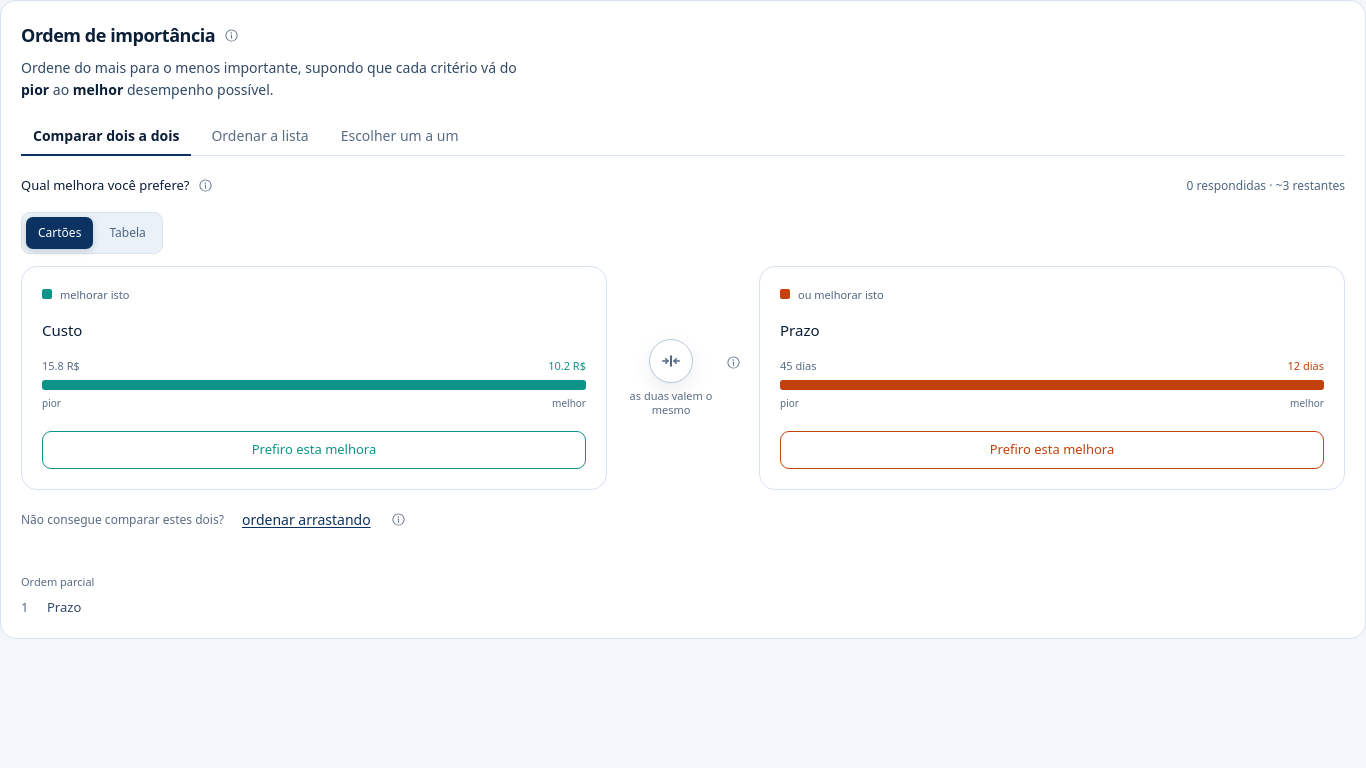
Scenario: a faixa nos tres modos de ordenacao › o criterio ja escolhido leva a faixa dele embora da lista de restantes
This screenshot has width=1366, height=768.
Click the button "Escolher um a um".
click(400, 137)  # box [329,118,470,156]
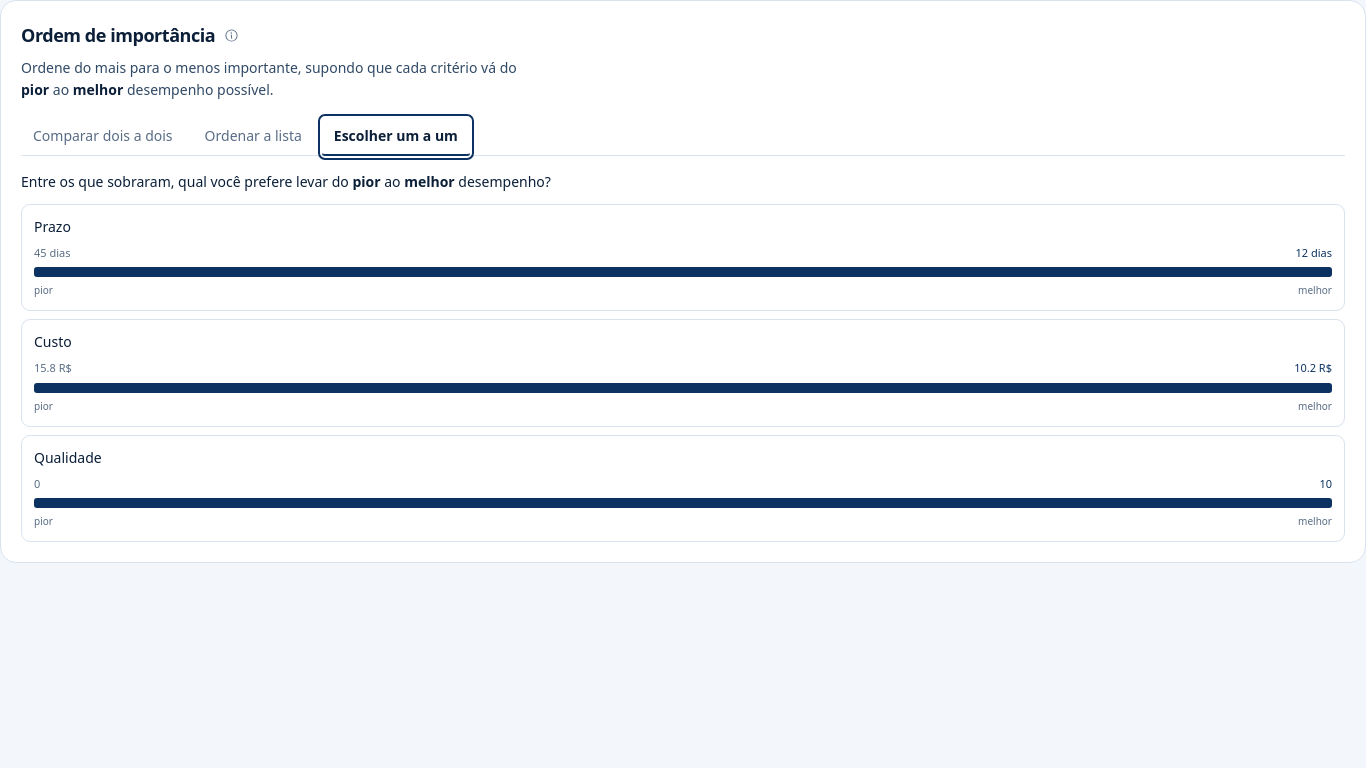
Click the button "Prazo 45 dias 12 dias pior melhor".
click(52, 226)  # box [21,204,1345,311]
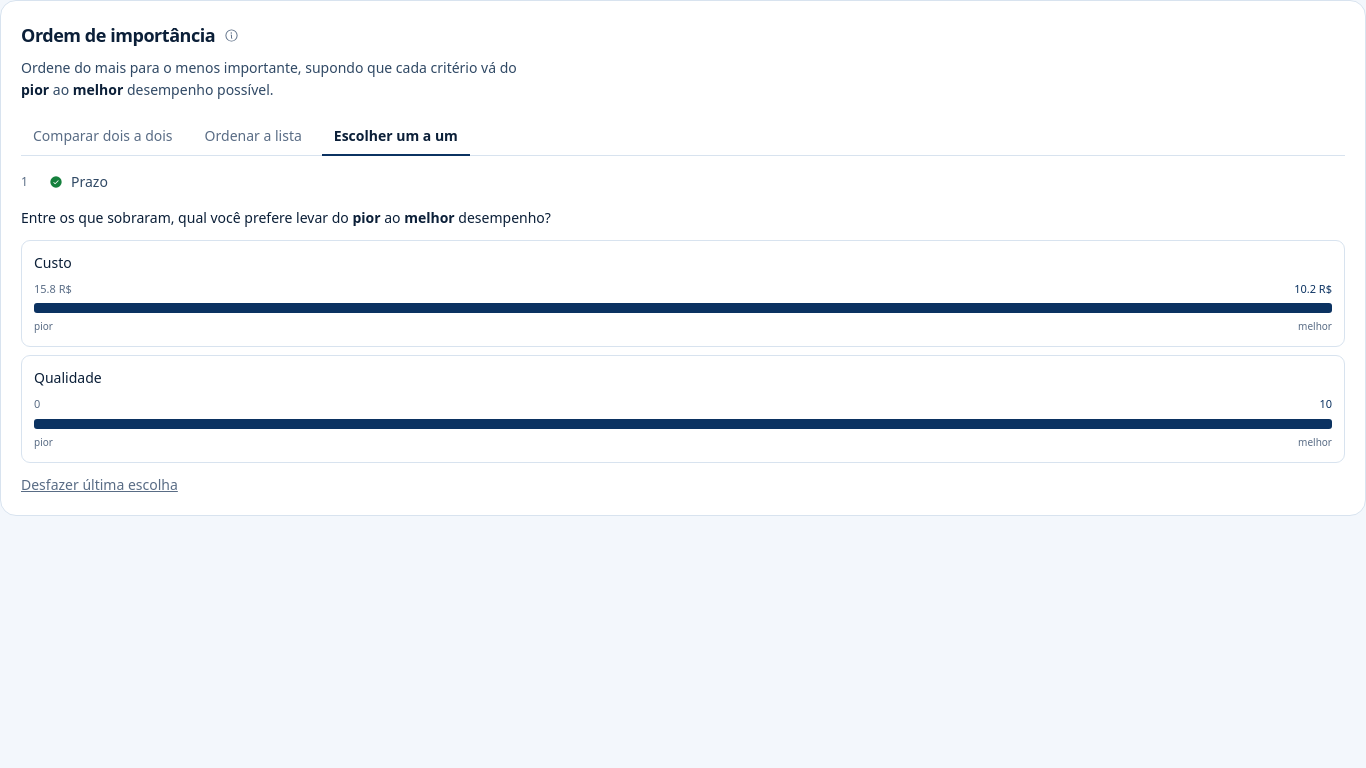
Expected: the number of pictures is 2, [34,281,1332,334]; [34,396,1332,450]
Expected: the button "45 dias" is gone
